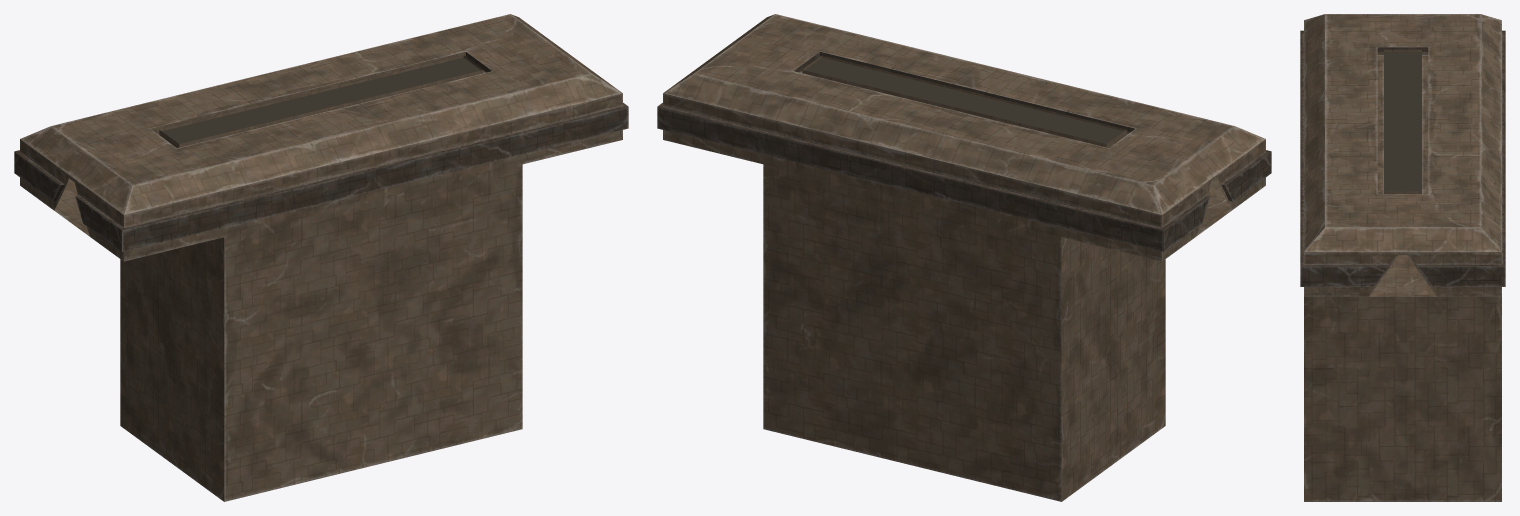
Rendered from MeshNivelBaldosas1.fbx.
3 views of the same model, side by side, from view 1: azimuth 30°, elevation 25°; view 2: azimuth 150°, elevation 25°; view 3: azimuth 270°, elevation 25° (orthographic). The views are drawn at different scales.
Parts seen in each view (by area): view 1: nivel baldosa low pieza 2.001; view 2: nivel baldosa low pieza 2.001; view 3: nivel baldosa low pieza 2.001.
Boxes of the visible parts, x1,y1,x2,y2 form: nivel baldosa low pieza 2.001: (14,14,628,501); nivel baldosa low pieza 2.001: (657,14,1271,501); nivel baldosa low pieza 2.001: (1300,14,1505,501).
Size of the model in its own units: 2536 by 1568 by 935.
